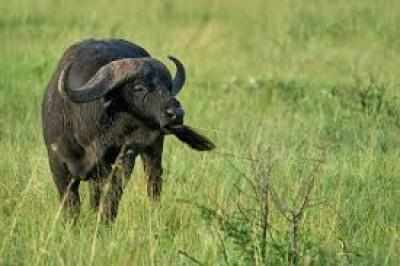buffalo: (42, 38, 214, 223)
